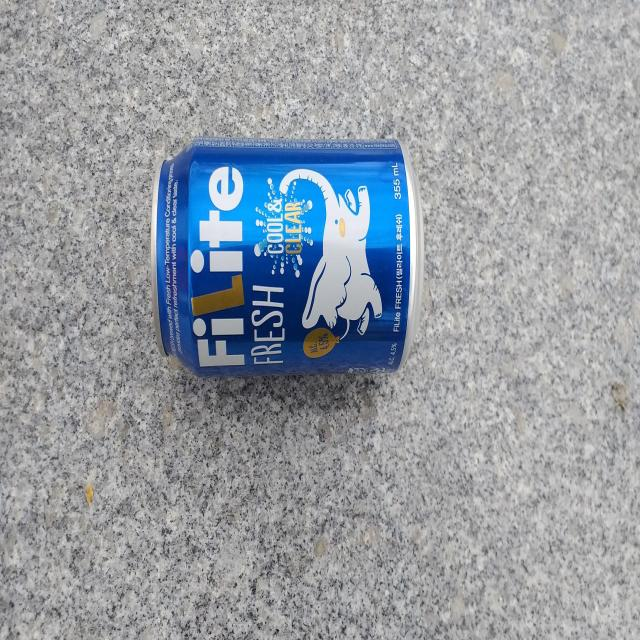can: (150, 136, 424, 375)
